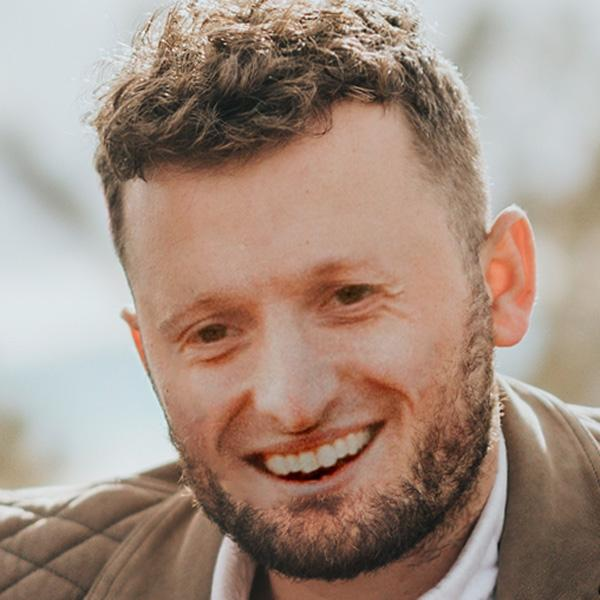Eyes: (308, 269, 391, 329), (168, 307, 252, 363)
